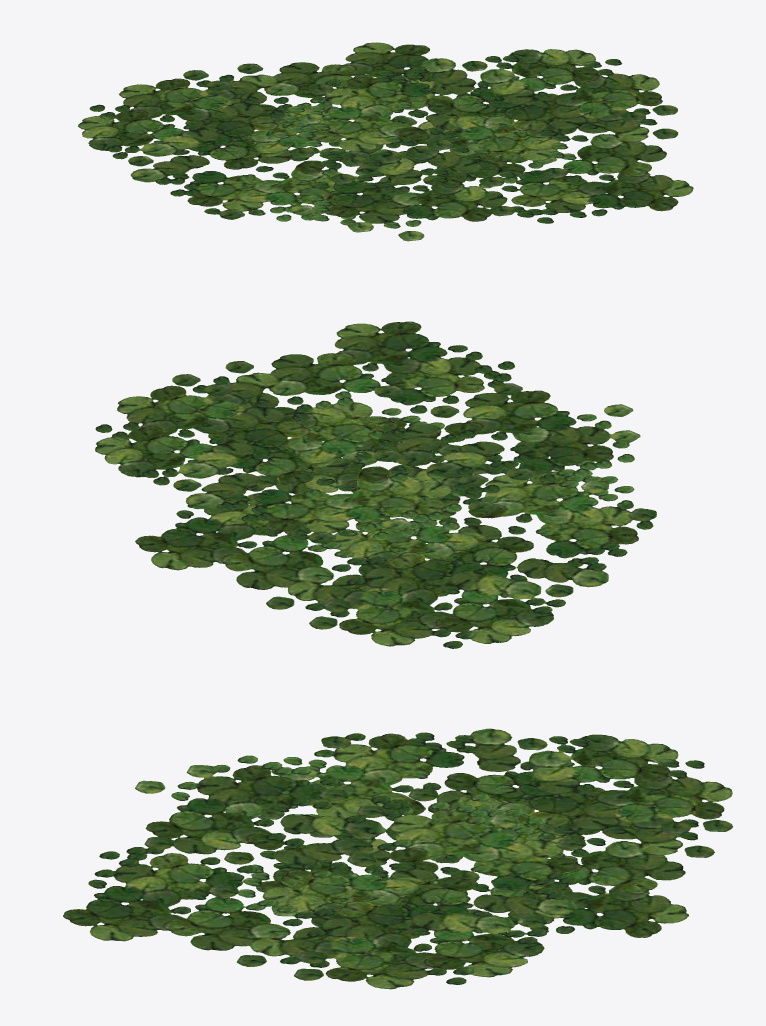
The model's file is grs_water_big.static.glb.
3 renders of one model, top to bottom at view 1: azimuth 30°, elevation 25°; view 2: azimuth 150°, elevation 25°; view 3: azimuth 270°, elevation 25°, orthographic. The views are drawn at different scales.
Parts seen in each view (by area): view 1: grs_water_big; view 2: grs_water_big; view 3: grs_water_big.
Boxes of the visible parts, x1,y1,x2,y2 form: grs_water_big: (78, 42, 693, 241); grs_water_big: (95, 321, 656, 648); grs_water_big: (63, 728, 733, 989).
Size of the model in its own units: 6.39 by 0.2746 by 6.46.
1 material, 1 textured.
